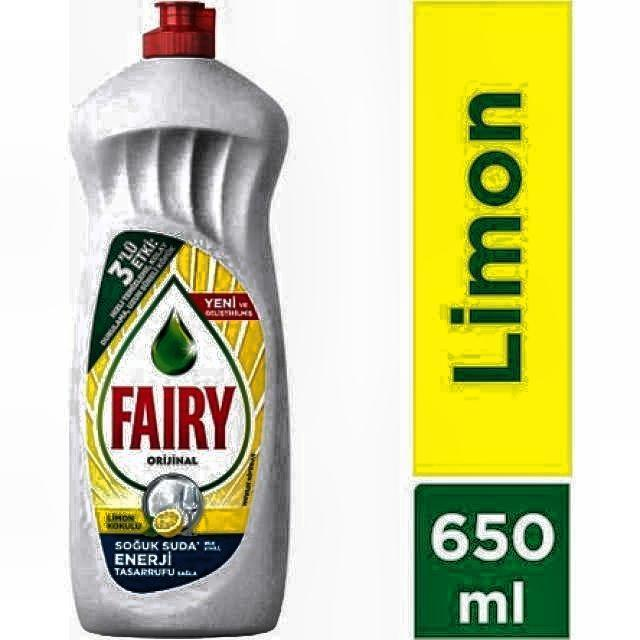plastic: (65, 2, 293, 640)
